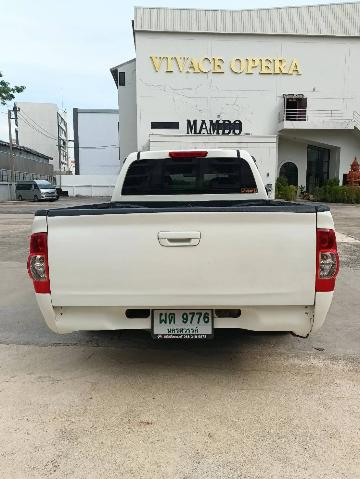pickup-truck: (23, 127, 344, 374)
